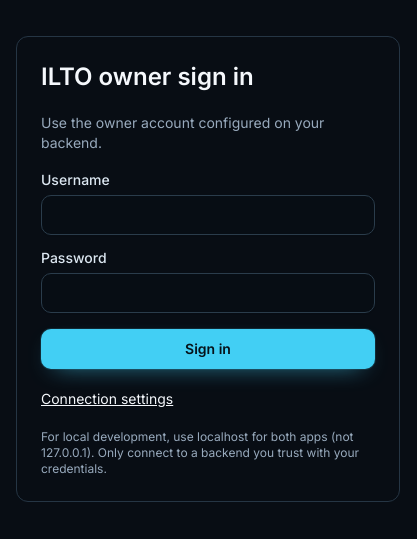
Test: owner session UI (mocked fetch, not real cookies) › shows actionable login failure for 401 without retrying
Expected: the button "Sign in" is enabled, x1=41 y1=329 x2=375 y2=369
In the field labelled "Username": coordinates (208, 215) x1=41 y1=195 x2=375 y2=235, type "owner"
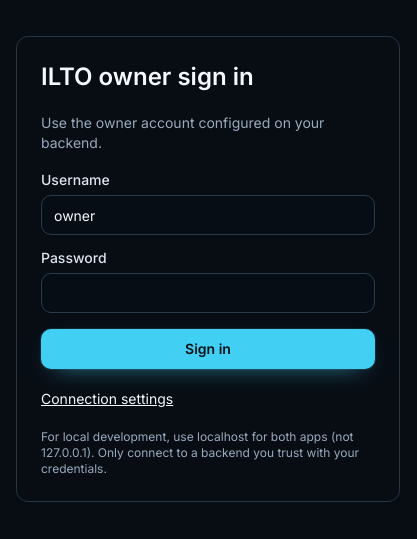
In the password field labelled "Password": coordinates (208, 293) x1=41 y1=273 x2=375 y2=313, type "password"
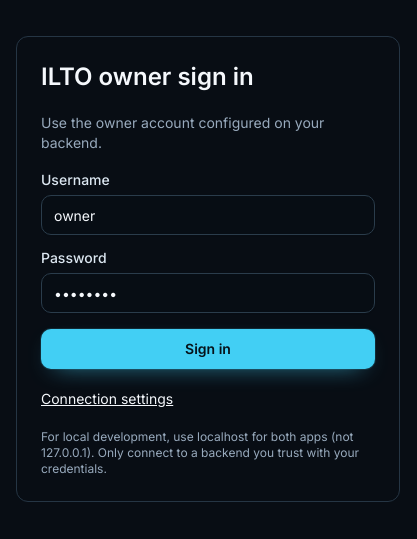
Click the button "Sign in": coordinates (208, 349) x1=41 y1=329 x2=375 y2=369
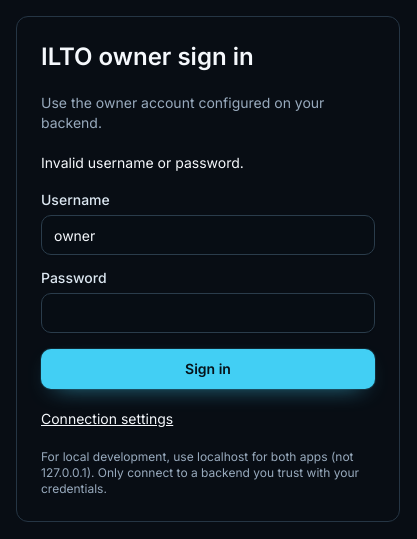
Expected: the message shows "Invalid username", x1=41 y1=154 x2=244 y2=171
Expected: the password field labelled "Password" is empty, x1=41 y1=293 x2=375 y2=333
